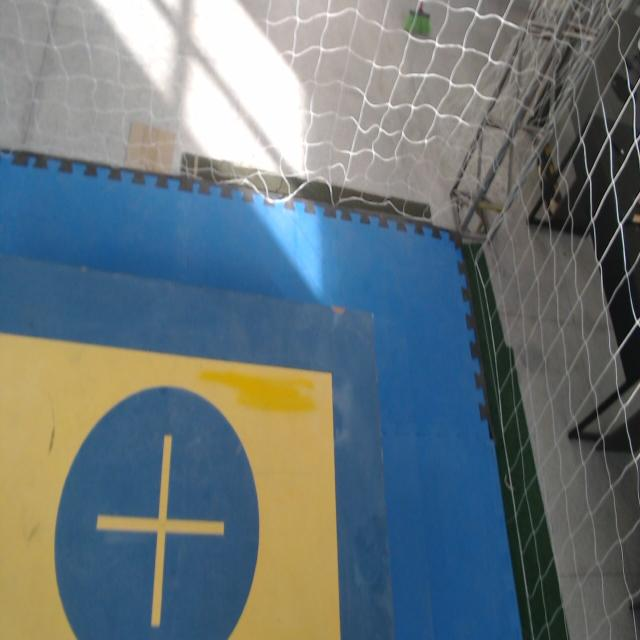base_inicio: (0, 336, 340, 639)
